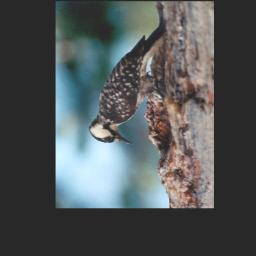Woodpecker: (79, 16, 172, 147)
